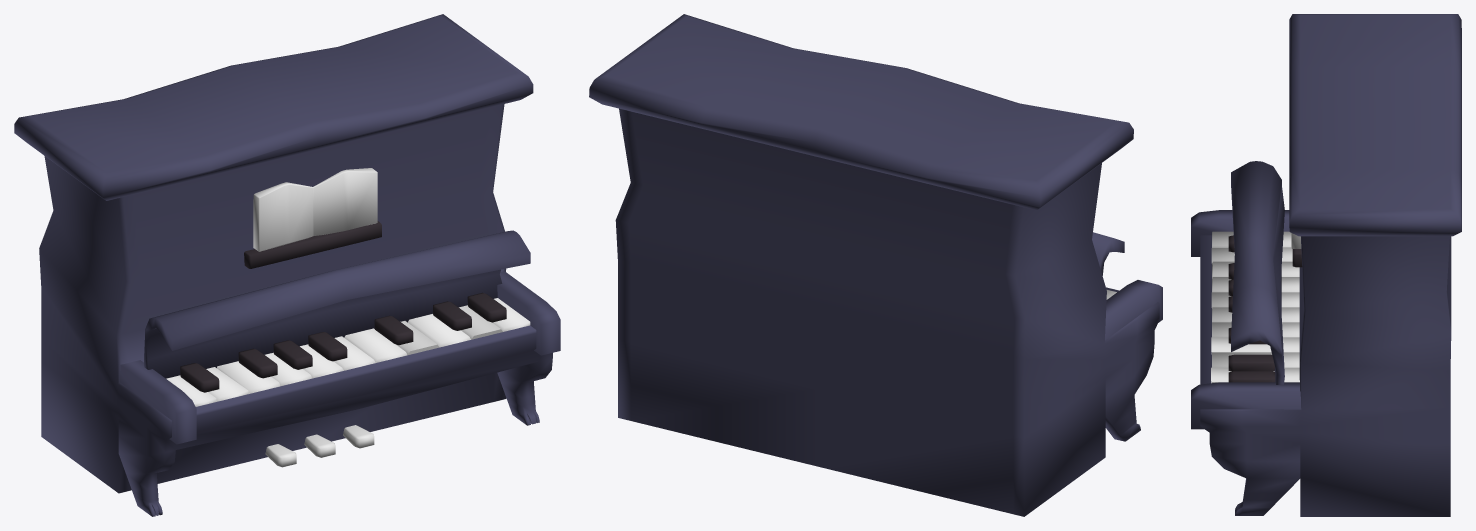
File: props_piano.fbx
3 views of the same model, side by side, from view 1: azimuth 30°, elevation 25°; view 2: azimuth 150°, elevation 25°; view 3: azimuth 270°, elevation 25° (orthographic). The views are drawn at different scales.
Visible parts, largest first — view 1: piano; view 2: piano; view 3: piano.
Boxes of the visible parts, <box> form: piano: <box>14,14,560,516</box>; piano: <box>589,14,1162,516</box>; piano: <box>1191,14,1461,516</box>.
Bounding box in the file's own units: 386 × 278 × 217.
